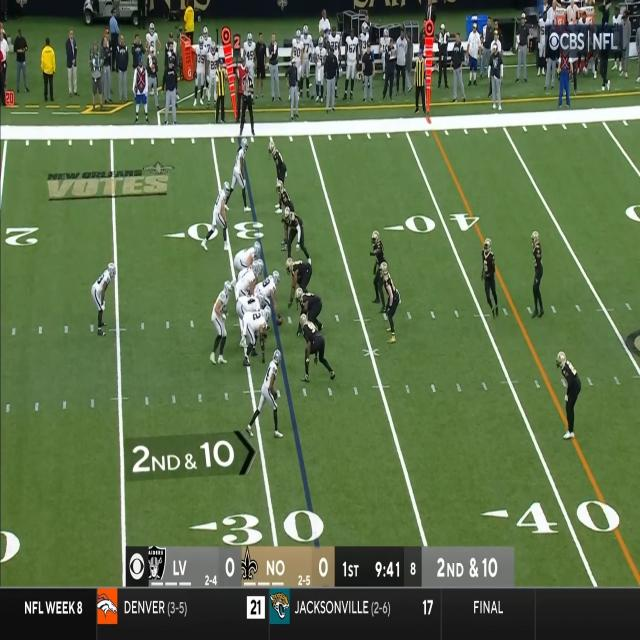football: (276, 316, 284, 328)
players: (247, 350, 284, 443), (300, 314, 336, 384), (201, 182, 232, 253), (208, 280, 234, 364), (557, 353, 581, 439), (91, 262, 117, 338), (242, 308, 274, 367), (224, 138, 249, 212), (284, 205, 311, 268), (379, 262, 398, 346), (482, 238, 501, 318), (295, 286, 324, 338), (274, 178, 294, 253), (530, 233, 546, 318), (284, 253, 309, 306), (269, 142, 287, 211), (371, 231, 388, 304), (256, 272, 283, 316), (234, 261, 260, 303), (235, 240, 263, 272), (238, 293, 264, 322)
